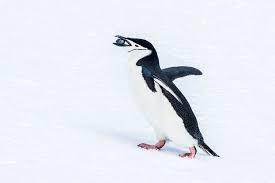chinstrap: (81, 25, 221, 163)
